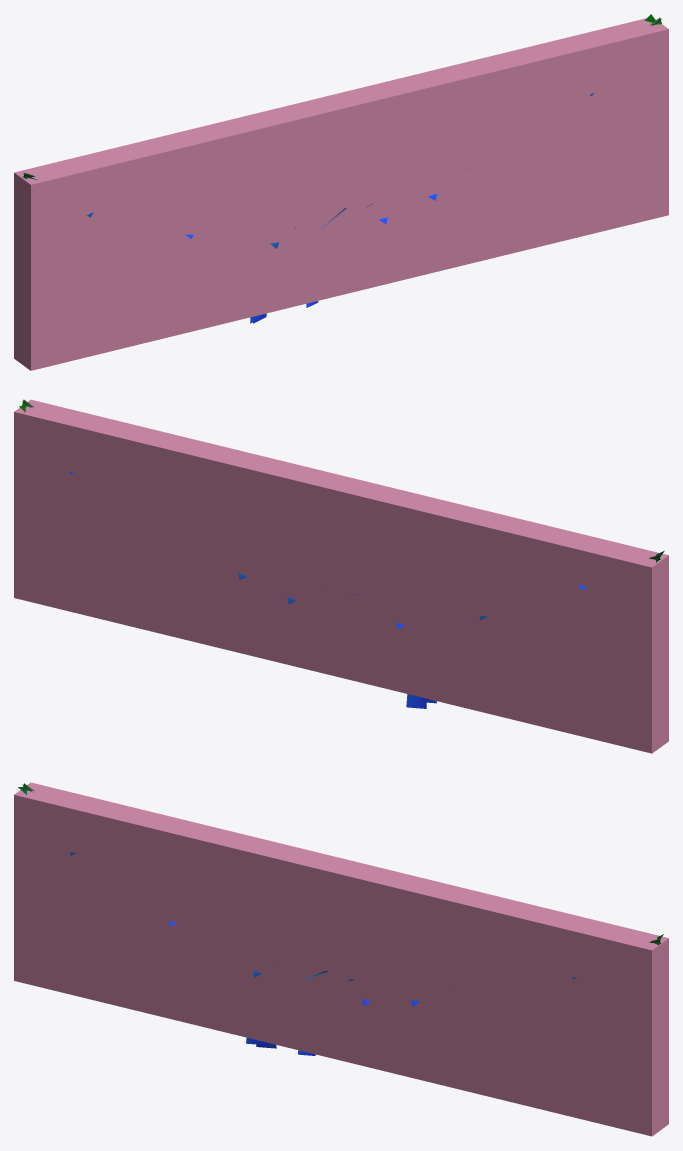
Rendered from vine_side_8m.dae.
The picture shows the model from 3 angles, top to bottom: view 1: azimuth 30°, elevation 25°; view 2: azimuth 150°, elevation 25°; view 3: azimuth 330°, elevation 25°; orthographic projection.
Visible parts, largest first — view 1: Untitled; view 2: Untitled, tree_oak_bush_a210; view 3: Untitled.
Boxes of the visible parts, x1,y1,x2,y2 form: Untitled: (14, 18, 668, 370); Untitled: (14, 399, 668, 753); tree_oak_bush_a210: (22, 400, 664, 708); Untitled: (14, 782, 668, 1136).
Bounding box in the file's own units: 8.02 × 0.4848 × 2.51.
